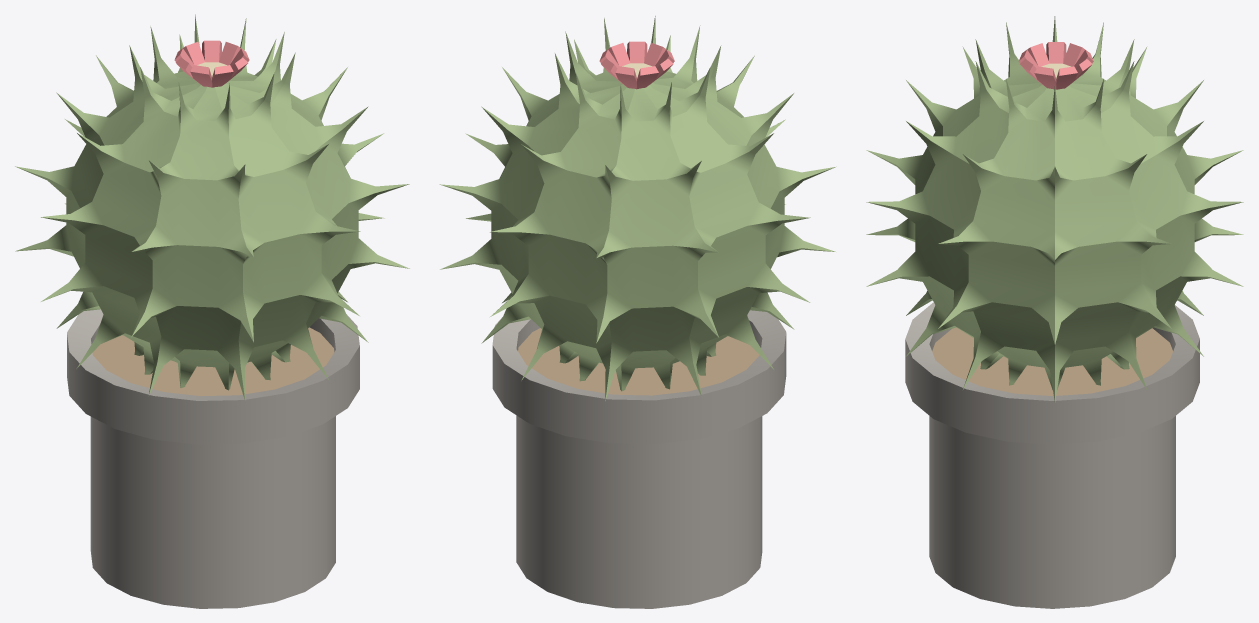
The model's file is Flor07.gltf.
3 views of the same model, side by side, from view 1: azimuth 30°, elevation 25°; view 2: azimuth 150°, elevation 25°; view 3: azimuth 270°, elevation 25° (orthographic).
Visible parts, largest first — view 1: pSphere6, pCylinder5, pCylinder7, pPipe28; view 2: pSphere6, pCylinder5, pCylinder7, pPipe28; view 3: pSphere6, pCylinder5, pCylinder7, pPipe28.
Part boxes in pixels (left/top/right/bottom): pSphere6: left=15, top=14, right=409, bottom=400; pCylinder5: left=67, top=309, right=359, bottom=608; pCylinder7: left=92, top=327, right=334, bottom=396; pPipe28: left=174, top=40, right=249, bottom=87; pSphere6: left=439, top=16, right=836, bottom=400; pCylinder5: left=492, top=310, right=786, bottom=608; pCylinder7: left=518, top=328, right=759, bottom=395; pPipe28: left=599, top=41, right=674, bottom=89; pSphere6: left=866, top=16, right=1243, bottom=402; pCylinder5: left=905, top=302, right=1199, bottom=608; pCylinder7: left=932, top=327, right=1172, bottom=396; pPipe28: left=1018, top=42, right=1093, bottom=89.
Size of the model in its own units: 0.3545 by 0.4978 by 0.3372.
